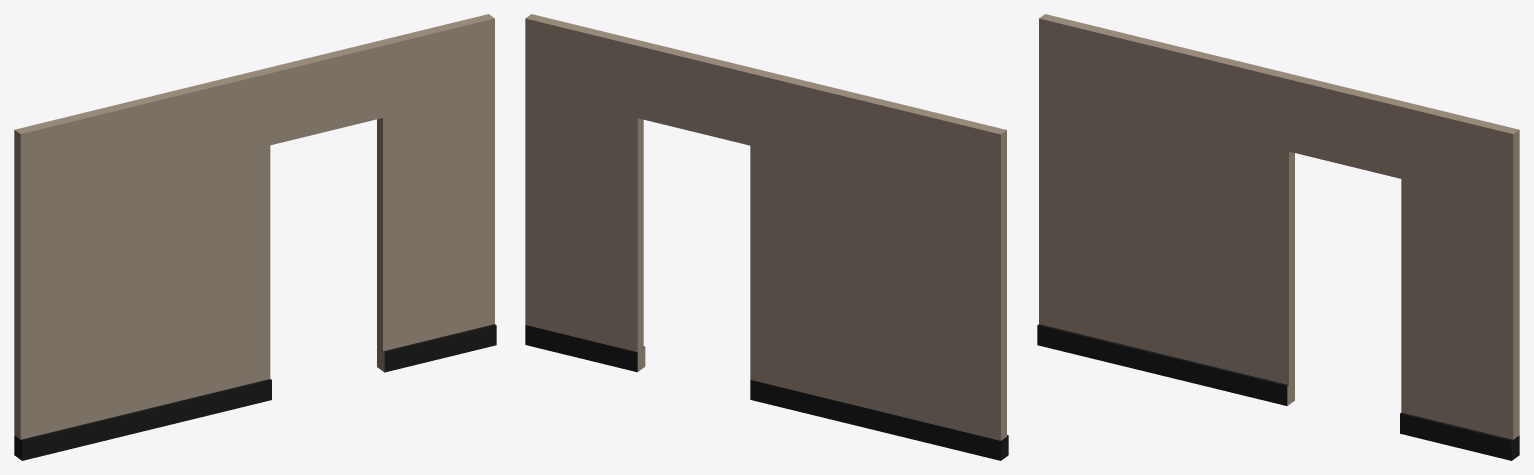
The model's file is Wall 1.FBX.
3 renders of one model, left to right at view 1: azimuth 30°, elevation 25°; view 2: azimuth 150°, elevation 25°; view 3: azimuth 330°, elevation 25°, orthographic.
Visible parts, largest first — view 1: Wall 1; view 2: Wall 1; view 3: Wall 1.
Part boxes in pixels (x1=…): Wall 1: x1=14, y1=14, x2=496, y2=460; Wall 1: x1=525, y1=14, x2=1008, y2=460; Wall 1: x1=1037, y1=14, x2=1519, y2=460.
Bounding box in the file's own units: 398 × 261 × 11.22.
Materials: 1 (1 with a texture image).
